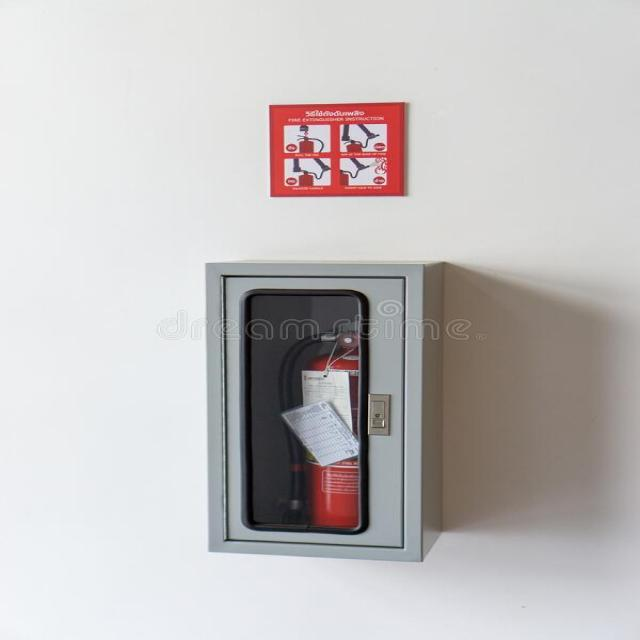fire_extinguisher: (272, 301, 399, 550)
